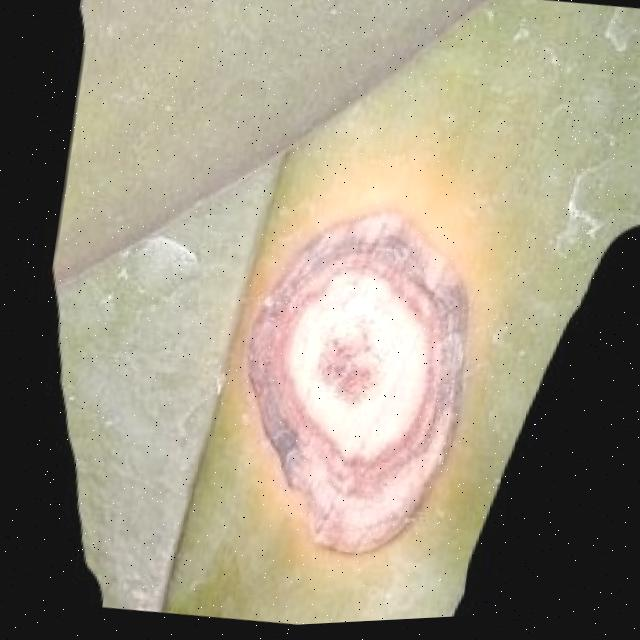mite: (445, 209, 640, 622), (97, 228, 209, 327), (600, 12, 640, 60)
sunburn: (217, 199, 494, 571)
